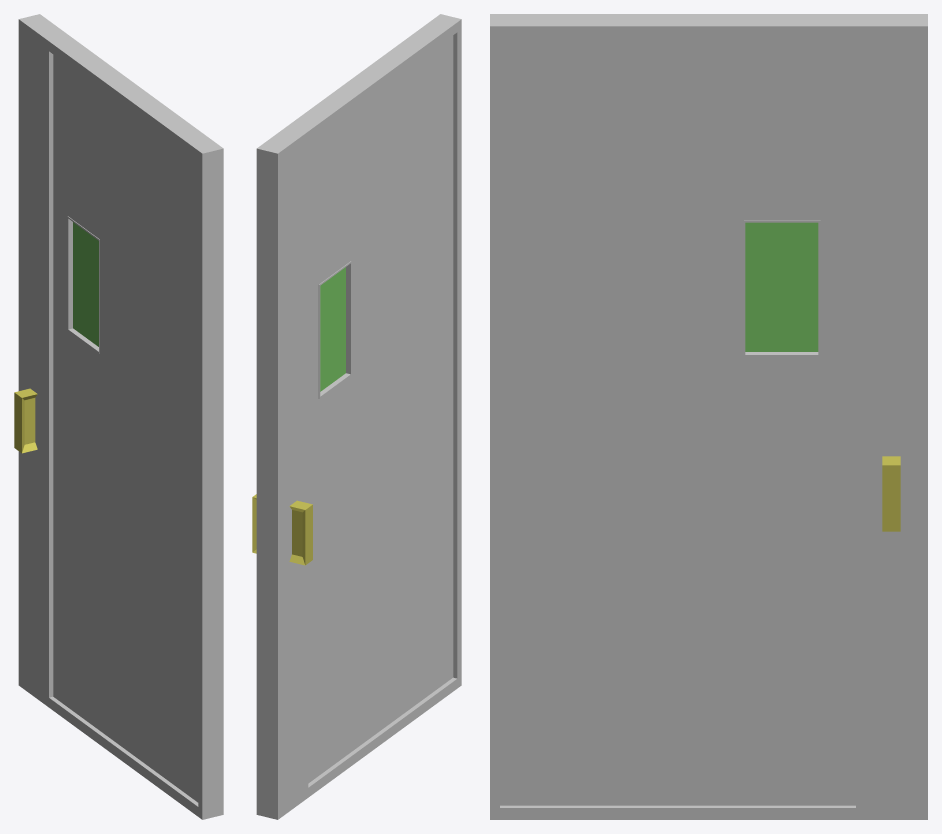
Rendered from SM_DoorCommercial.fbx.
3 renders of one model, left to right at view 1: azimuth 30°, elevation 25°; view 2: azimuth 150°, elevation 25°; view 3: azimuth 270°, elevation 25°, orthographic. The views are drawn at different scales.
Parts seen in each view (by area): view 1: Door; view 2: Door; view 3: Door.
Boxes of the visible parts, x1=… form: Door: x1=14, y1=14, x2=223, y2=819; Door: x1=252, y1=14, x2=461, y2=819; Door: x1=490, y1=14, x2=927, y2=819.
Bounding box in the file's own units: 25 × 300 × 150.
